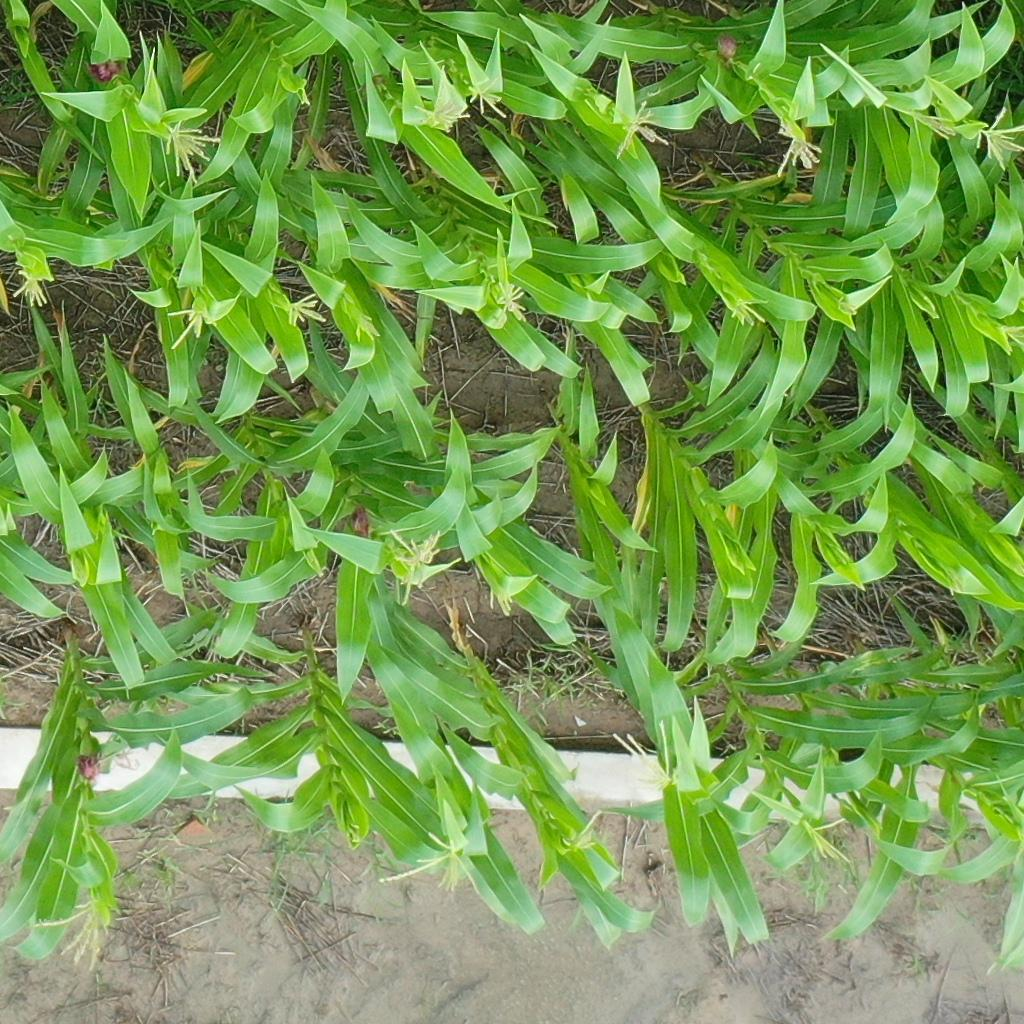Tassel: (376, 830, 483, 897), (32, 896, 111, 973), (607, 721, 685, 794), (389, 529, 448, 606), (159, 117, 221, 186), (609, 98, 671, 159), (973, 102, 1024, 173), (799, 818, 851, 869), (772, 128, 824, 177), (167, 306, 215, 351), (412, 101, 471, 136), (466, 75, 511, 120), (560, 807, 602, 852), (913, 107, 958, 143), (497, 278, 532, 324), (286, 291, 328, 329), (13, 270, 53, 308), (722, 297, 770, 328), (487, 587, 521, 619), (999, 325, 1024, 346)
